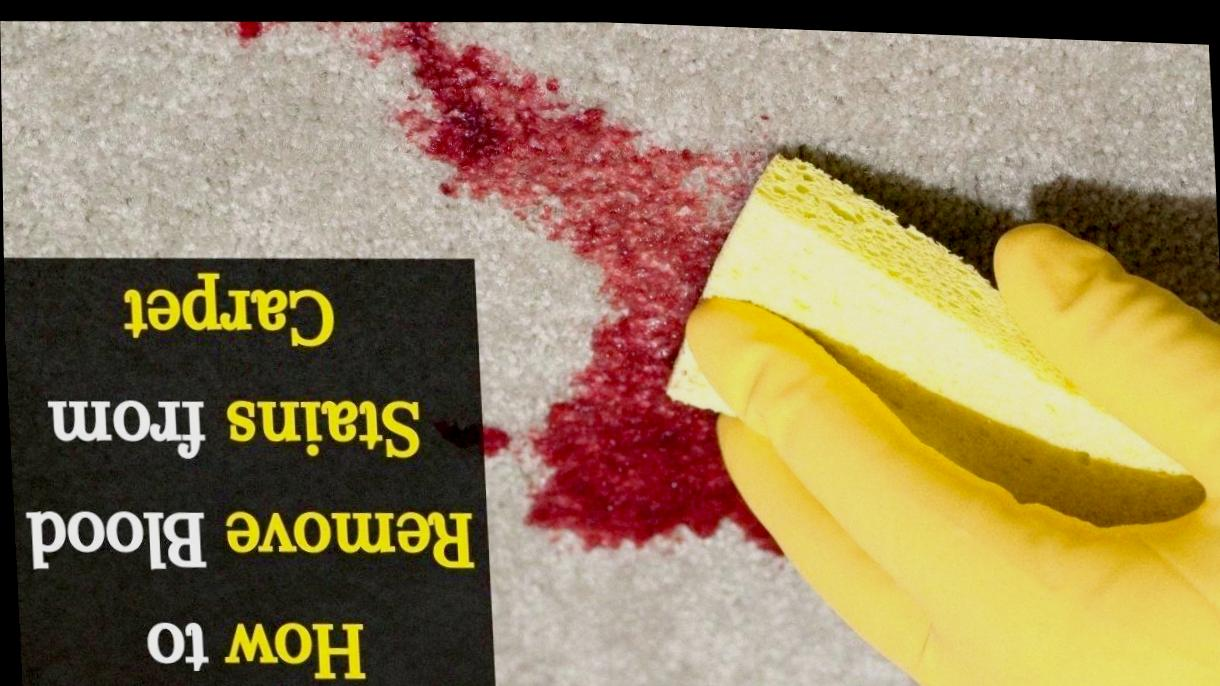Fire: (375, 19, 782, 551), (232, 19, 287, 48), (481, 423, 510, 456)
